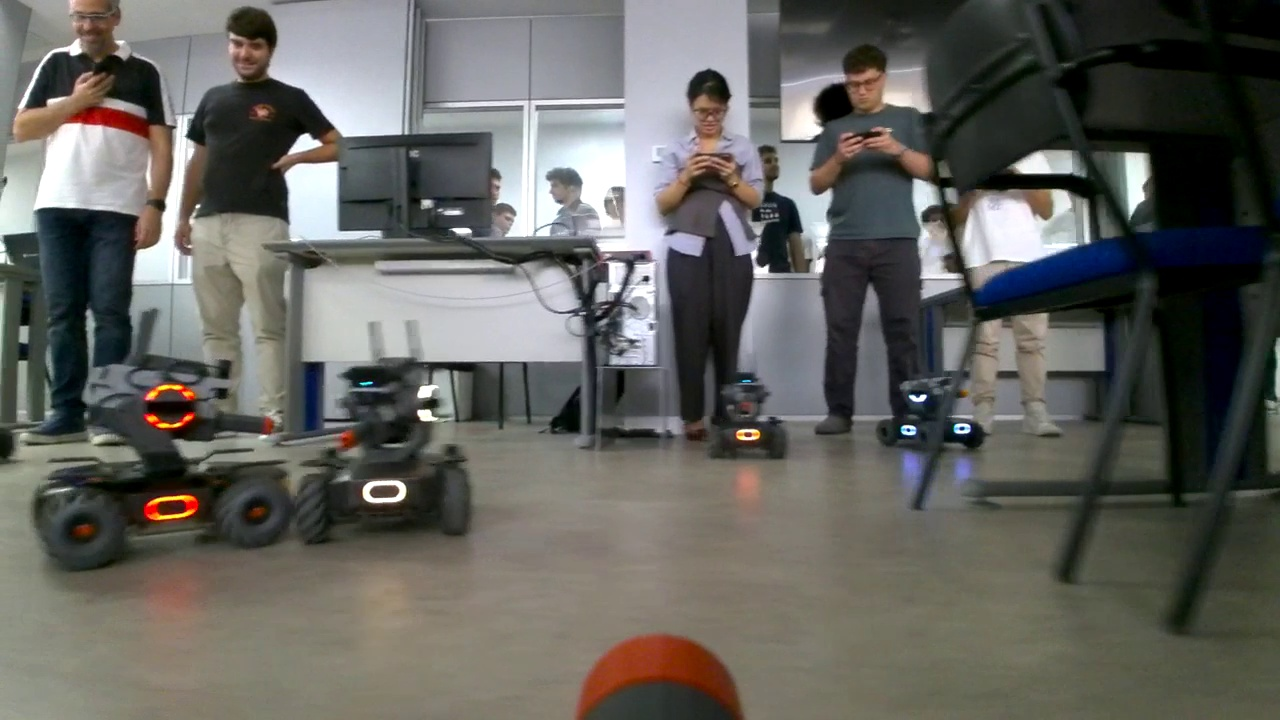robot: (39, 306, 287, 567), (295, 319, 469, 543), (875, 357, 982, 449), (708, 359, 785, 457)
